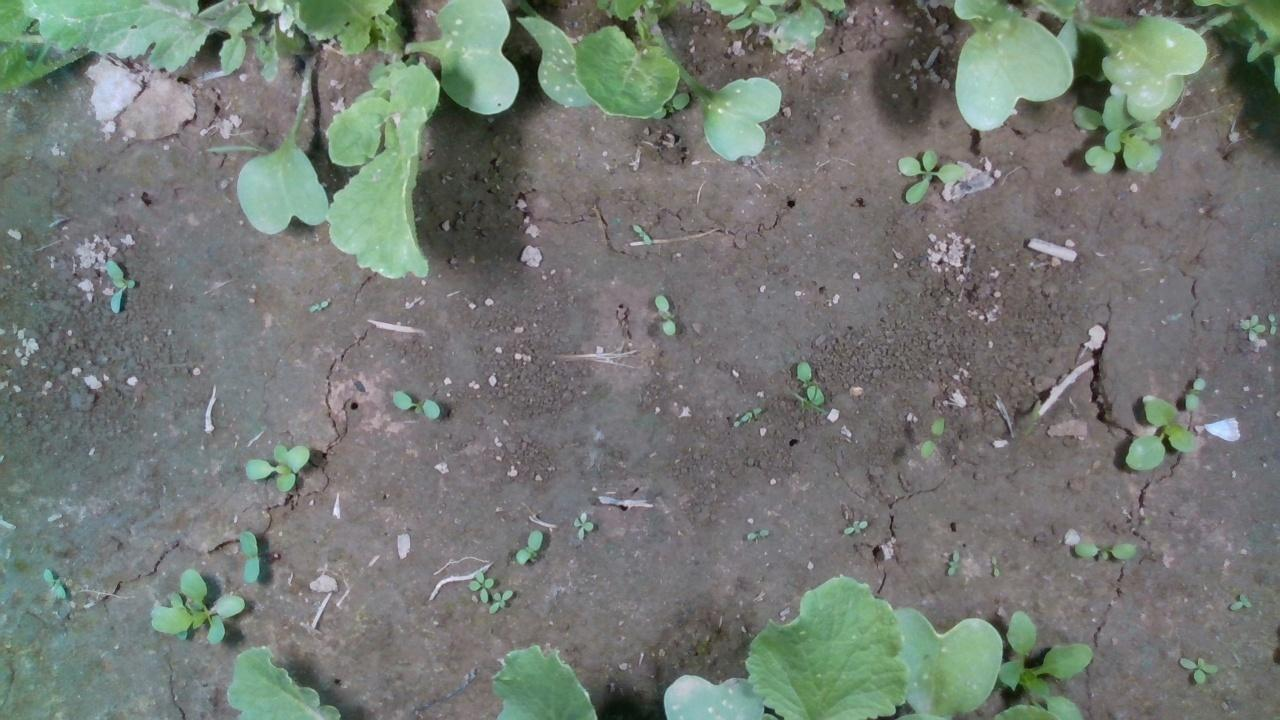weed: (895, 147, 965, 205), (385, 386, 443, 420), (234, 528, 261, 584), (1071, 537, 1136, 560), (512, 527, 546, 569), (1175, 654, 1220, 682), (918, 415, 944, 461), (653, 290, 677, 337), (39, 566, 68, 599), (1184, 375, 1207, 413), (568, 510, 592, 539), (628, 222, 653, 245), (1223, 591, 1252, 610), (943, 549, 960, 577), (742, 526, 772, 541), (841, 519, 869, 534), (988, 553, 1002, 579)
